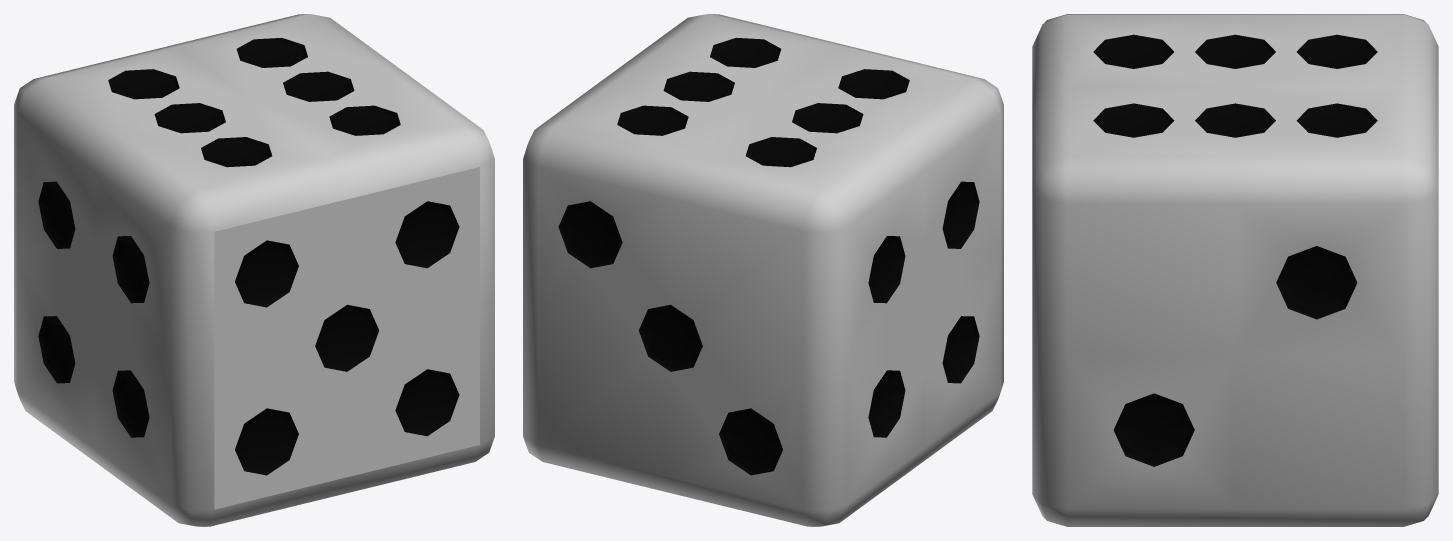
The model's file is Dice.fbx.
3 renders of one model, left to right at view 1: azimuth 30°, elevation 25°; view 2: azimuth 150°, elevation 25°; view 3: azimuth 270°, elevation 25°, orthographic. The views are drawn at different scales.
Visible parts, largest first — view 1: Cube; view 2: Cube; view 3: Cube.
Part boxes in pixels (left/top/right/bottom): Cube: left=14, top=14, right=494, bottom=526; Cube: left=523, top=14, right=1003, bottom=526; Cube: left=1032, top=14, right=1438, bottom=526.
Size of the model in its own units: 200 by 200 by 200.
Materials: 1 (1 with a texture image).
